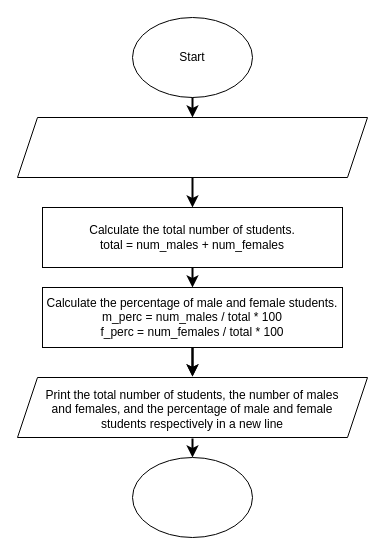
This 385x555 diagram has some shape labels left out. The shapes that lost their labels are listed below. From the top down, each one's box as (x1, y1, x2, y2) in pixels, then its label:
(16, 116, 368, 178): Ask two integer values (num_males, num_females) to users
(132, 456, 252, 538): End
